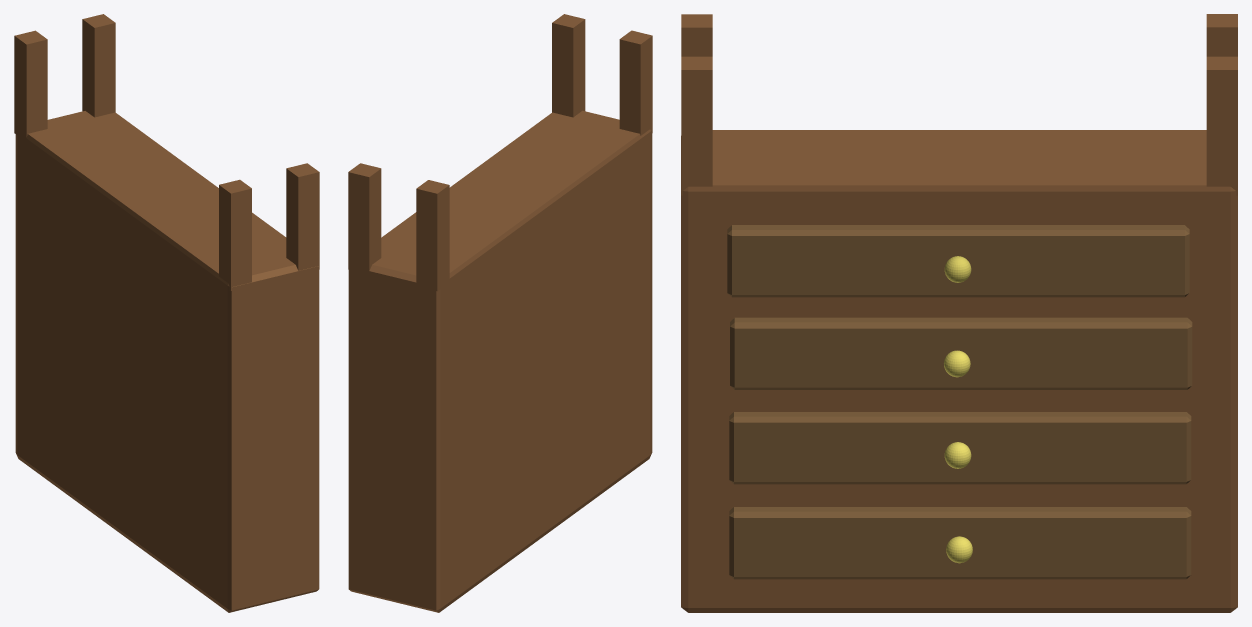
File: dresser.fbx
The picture shows the model from 3 angles, left to right: view 1: azimuth 30°, elevation 25°; view 2: azimuth 150°, elevation 25°; view 3: azimuth 270°, elevation 25°; orthographic projection. The views are drawn at different scales.
Parts seen in each view (by area): view 1: Cube, Cube.001, Cube.003, Cube.004, Cube.002; view 2: Cube, Cube.001, Cube.002, Cube.004, Cube.003; view 3: Cube, Cube.005, Cube.008, Cube.006, Cube.007, Cube.003, Cube.002, Cube.001, Cube.004.
Part boxes in pixels (x1,y1,x2,y2): Cube: [15, 111, 319, 612]; Cube.001: [14, 30, 47, 141]; Cube.003: [286, 163, 319, 270]; Cube.004: [219, 179, 251, 290]; Cube.002: [82, 14, 115, 117]; Cube: [348, 110, 652, 612]; Cube.001: [416, 180, 449, 291]; Cube.002: [348, 163, 381, 270]; Cube.004: [619, 30, 652, 135]; Cube.003: [552, 14, 585, 117]; Cube: [681, 130, 1237, 612]; Cube.005: [729, 507, 1191, 579]; Cube.008: [727, 225, 1189, 297]; Cube.006: [729, 412, 1191, 484]; Cube.007: [730, 317, 1192, 389]; Cube.003: [681, 56, 712, 195]; Cube.002: [1206, 56, 1237, 195]; Cube.001: [1206, 14, 1237, 56]; Cube.004: [681, 14, 712, 56].
Bounding box in the file's own units: 266 × 894 × 831.
